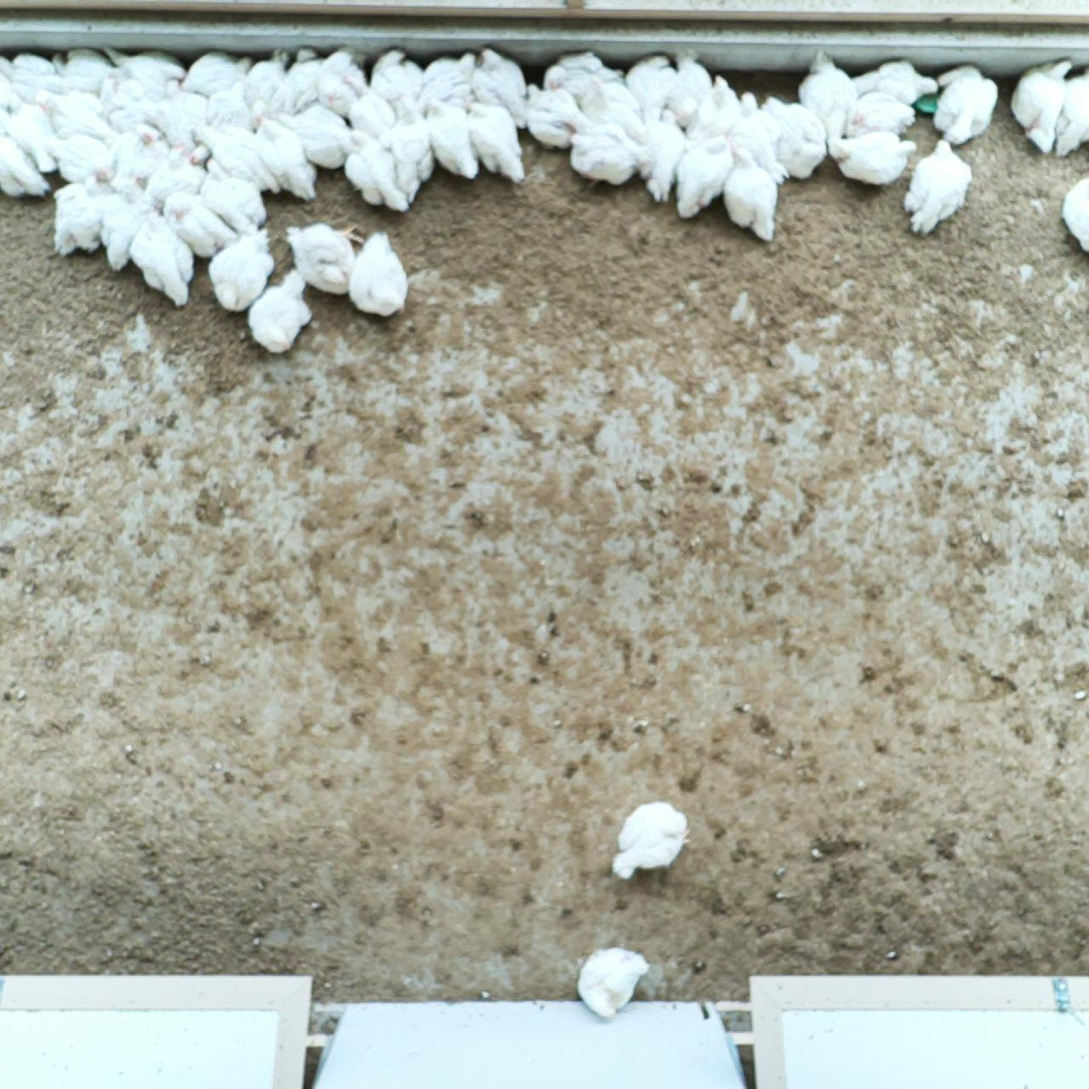chicken: (899, 137, 976, 241), (189, 118, 287, 197), (280, 217, 368, 304), (96, 170, 166, 275), (611, 798, 694, 885), (1006, 52, 1074, 157), (127, 217, 200, 313), (245, 266, 318, 359), (340, 127, 414, 217), (460, 94, 529, 190), (724, 89, 793, 185), (346, 228, 415, 323), (761, 91, 831, 184), (209, 225, 278, 318), (719, 141, 781, 244), (561, 112, 641, 191), (274, 103, 362, 174), (158, 188, 238, 266), (577, 942, 654, 1023), (253, 112, 320, 205), (796, 47, 860, 144), (932, 61, 1003, 146), (187, 79, 254, 169), (421, 91, 483, 186), (468, 44, 533, 133), (197, 156, 272, 233), (823, 127, 919, 187), (671, 131, 732, 225), (52, 174, 116, 263), (539, 49, 626, 114), (30, 83, 118, 146), (520, 77, 588, 157), (0, 86, 61, 175), (685, 70, 744, 159), (638, 104, 690, 204), (146, 75, 218, 147), (0, 88, 66, 159), (40, 129, 117, 189), (415, 49, 483, 116), (269, 47, 333, 117), (336, 72, 400, 141), (849, 58, 940, 106), (661, 49, 714, 130), (145, 143, 209, 209), (97, 70, 160, 137), (368, 47, 428, 117), (622, 51, 678, 126), (178, 48, 256, 100), (314, 49, 373, 117), (111, 120, 172, 183), (104, 43, 190, 87), (1051, 64, 1089, 162), (844, 88, 917, 139), (53, 41, 118, 97), (0, 132, 50, 204), (0, 49, 66, 97), (244, 45, 297, 103), (1058, 171, 1089, 257)
